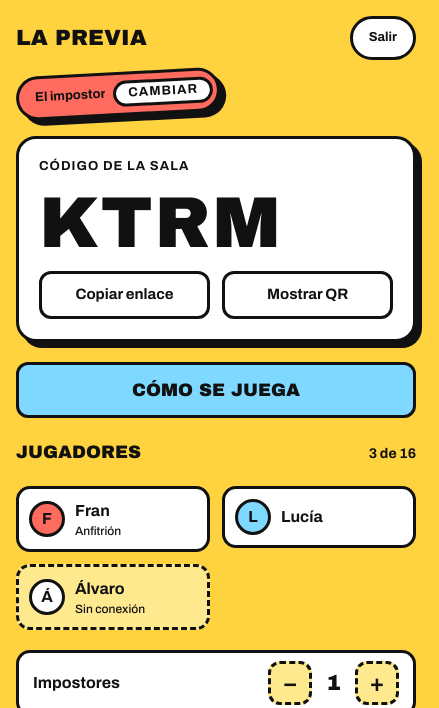
Test case: Room › comparte el enlace completo de la sala y muestra que se ha copiado
Click the button "Copiar enlace".
click(124, 295)  # box x1=39 y1=271 x2=210 y2=319
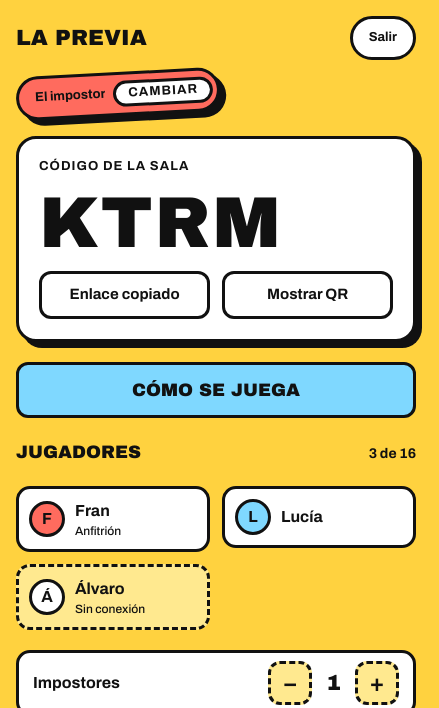
Check: the button "Enlace copiado" is shown, box x1=39 y1=271 x2=210 y2=319
